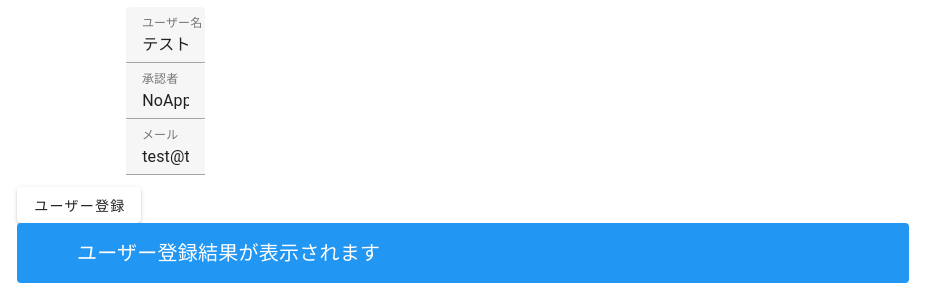
Test: index.vue add user failure › ユーザー追加処理のフロントテスト 失敗
Click the button with id "addButton": (79, 205) [17,187,142,223]
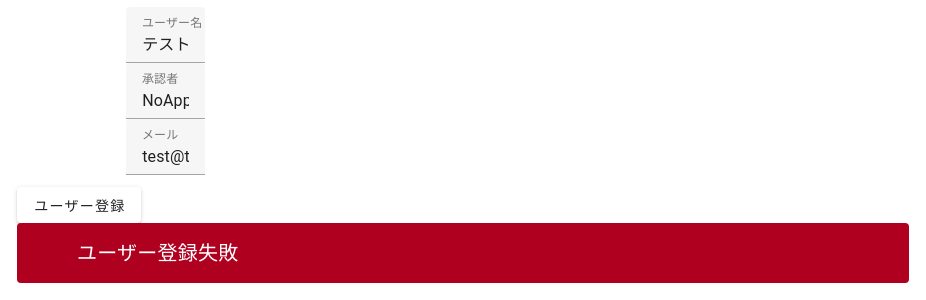
Expected: the message "ユーザー登録失敗" is shown, [17,223,909,283]
Now the message with id "addUserAlert" reads "ユーザー登録失敗", box [77,241,239,265]
